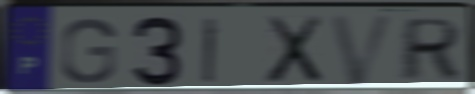3: (128, 12, 186, 88)
G: (57, 17, 118, 86)
I: (200, 16, 221, 85)
R: (397, 16, 465, 83)
V: (327, 12, 400, 88)
X: (264, 14, 325, 86)
